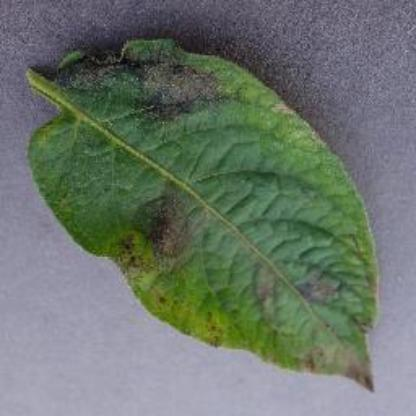Late-Blight: (18, 27, 384, 396)
